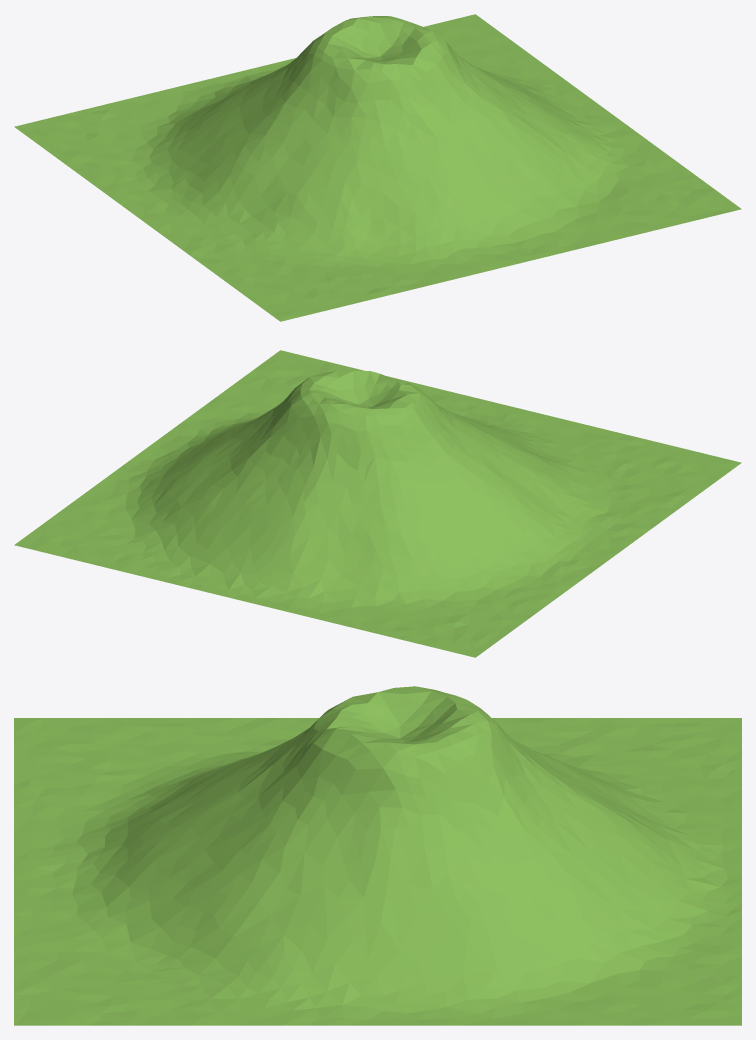
File: MT_Terrain_L_a_19_LOD.fbx
3 renders of one model, top to bottom at view 1: azimuth 30°, elevation 25°; view 2: azimuth 150°, elevation 25°; view 3: azimuth 270°, elevation 25°, orthographic. The views are drawn at different scales.
Parts seen in each view (by area): view 1: MT_Terrain_L_a_19_LOD0; view 2: MT_Terrain_L_a_19_LOD0; view 3: MT_Terrain_L_a_19_LOD0.
Boxes of the visible parts, x1,y1,x2,y2 form: MT_Terrain_L_a_19_LOD0: (14,14,741,321); MT_Terrain_L_a_19_LOD0: (14,350,741,657); MT_Terrain_L_a_19_LOD0: (14,686,741,1025).
Size of what is drawn, in the model's own units: 10000 by 2549 by 10000.
